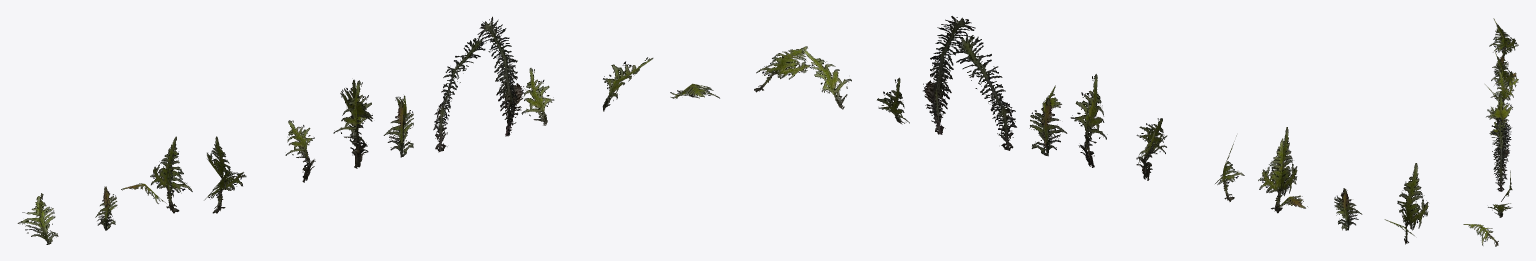
Rendered from moss_01.glb.
3 views of the same model, side by side, from view 1: azimuth 30°, elevation 25°; view 2: azimuth 150°, elevation 25°; view 3: azimuth 270°, elevation 25° (orthographic). The views are drawn at different scales.
Visible parts, largest first — view 1: moss_01_c_LOD0; view 2: moss_01_c_LOD0; view 3: moss_01_c_LOD0.
Boxes of the visible parts, x1,y1,x2,y2 form: moss_01_c_LOD0: (17, 16, 719, 244); moss_01_c_LOD0: (754, 16, 1428, 244); moss_01_c_LOD0: (1463, 18, 1518, 246).
Size of the model in its own units: 0.2153 by 0.0404 by 0.0294.
1 material, 1 textured.
